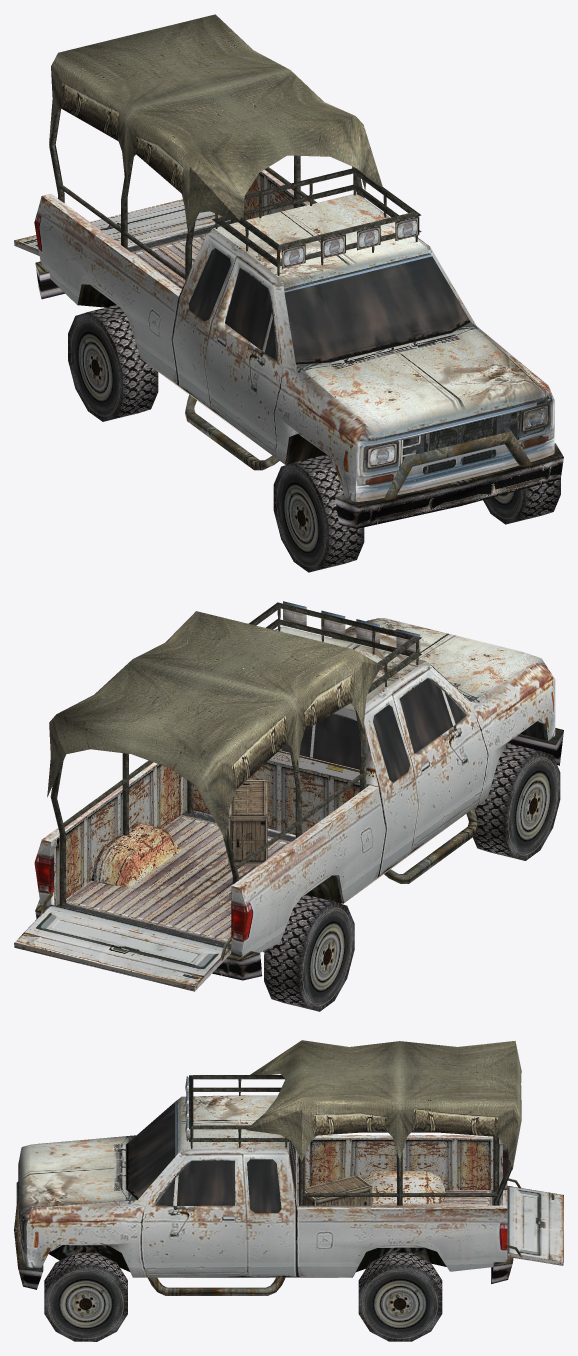
The model's file is Etek6.glb.
3 views of the same model, one above another, from view 1: azimuth 30°, elevation 25°; view 2: azimuth 150°, elevation 25°; view 3: azimuth 270°, elevation 25° (orthographic). The views are drawn at different scales.
Visible parts, largest first — view 1: _Etek6; view 2: _Etek6; view 3: _Etek6.
Boxes of the visible parts, box(x1,y1,x2,y2) form: _Etek6: box(14, 14, 563, 572); _Etek6: box(14, 601, 563, 1011); _Etek6: box(14, 1040, 563, 1341).
Size of the model in its own units: 2.56 by 3.16 by 6.88.
4 materials, 4 textured.
